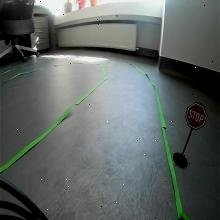stop: (186, 100, 207, 131)
